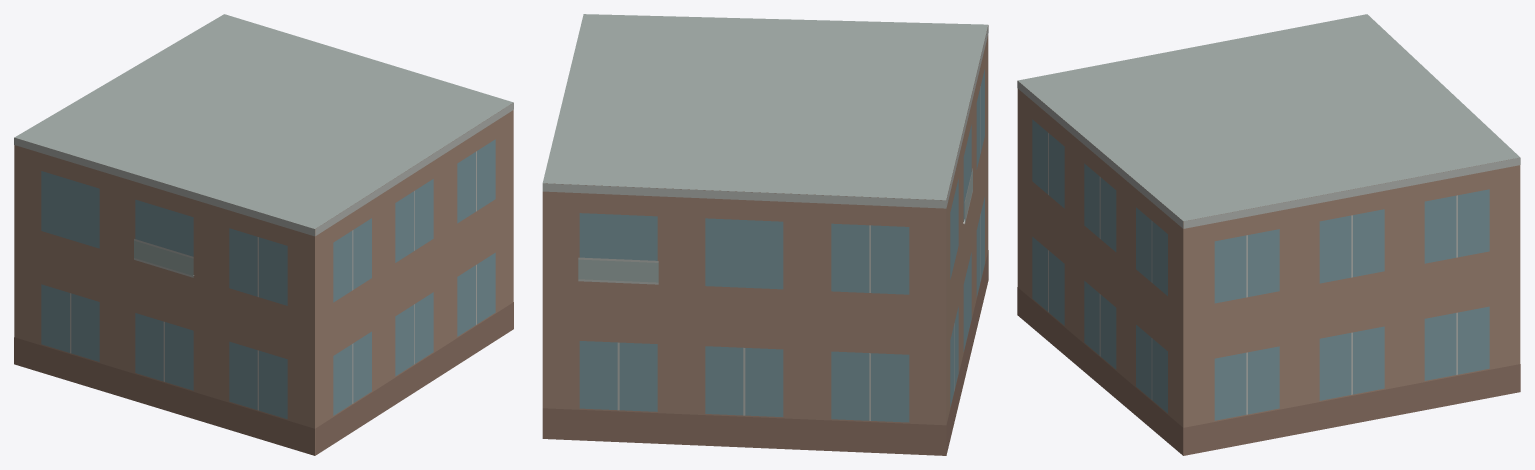
Rendered from survey-upis-32877347.glb.
3 renders of one model, left to right at view 1: azimuth 30°, elevation 25°; view 2: azimuth 150°, elevation 25°; view 3: azimuth 270°, elevation 25°, orthographic. The views are drawn at different scales.
Visible parts, largest first — view 1: survey-upis-32877347.tmp; view 2: survey-upis-32877347.tmp; view 3: survey-upis-32877347.tmp.
Part boxes in pixels (left/top/right/bottom): survey-upis-32877347.tmp: left=14, top=14, right=513, bottom=455; survey-upis-32877347.tmp: left=542, top=14, right=988, bottom=455; survey-upis-32877347.tmp: left=1017, top=14, right=1520, bottom=455.
Bounding box in the file's own units: 14.22 × 7.5 × 14.59.
